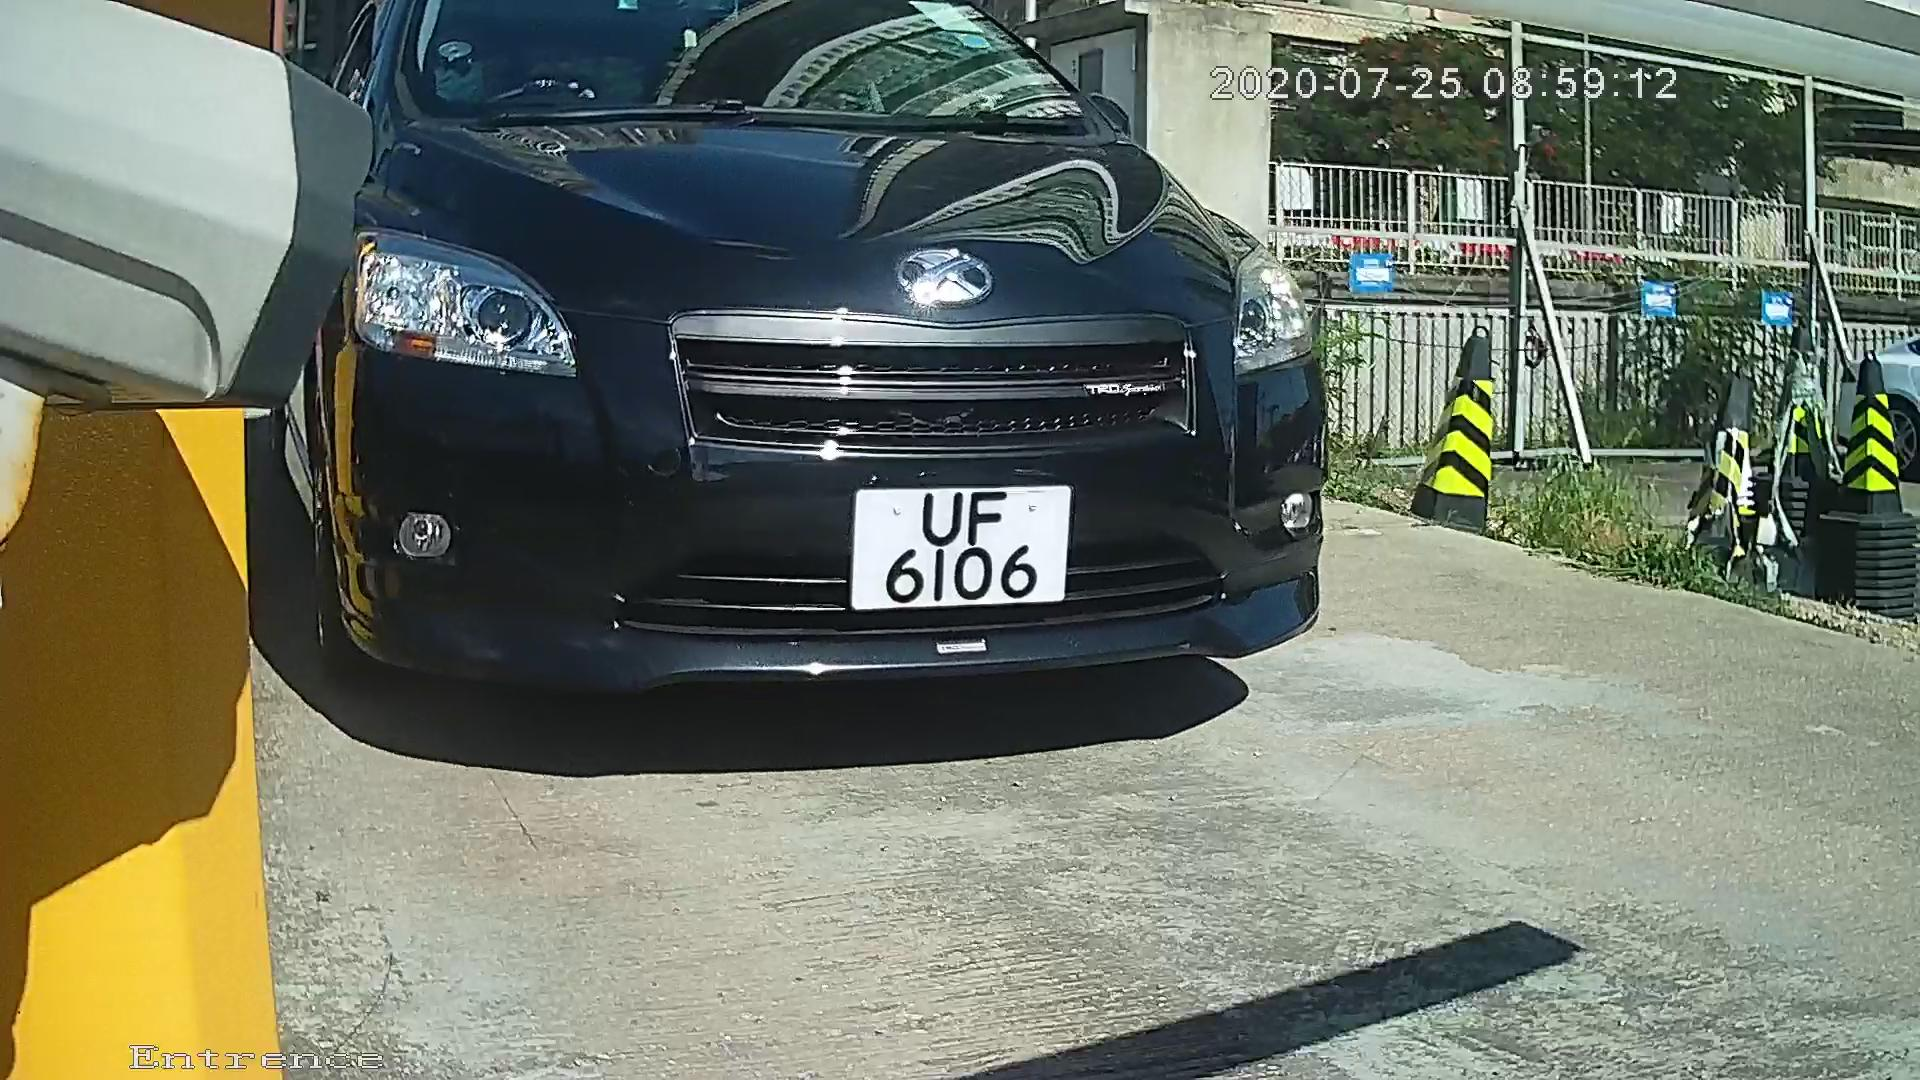License Plate: (823, 473, 1089, 622)
